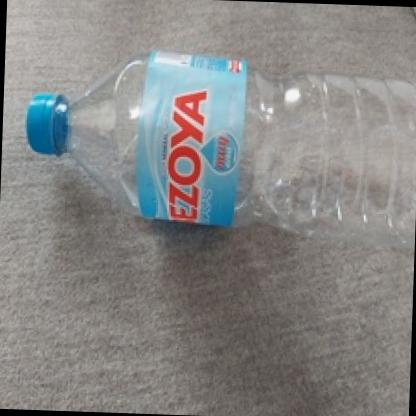plastic_bottles: (9, 41, 416, 255)
